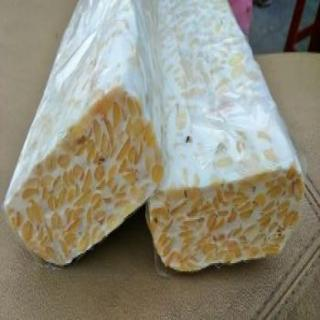Tempe: (4, 1, 165, 269)
